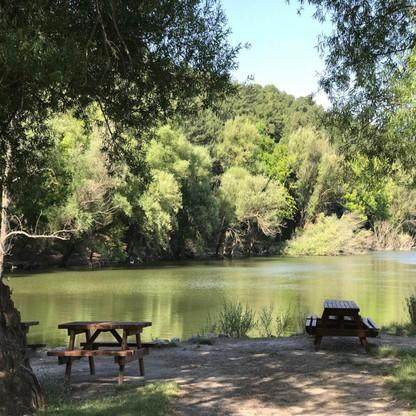obstacle: (49, 307, 156, 396), (295, 270, 386, 370)
